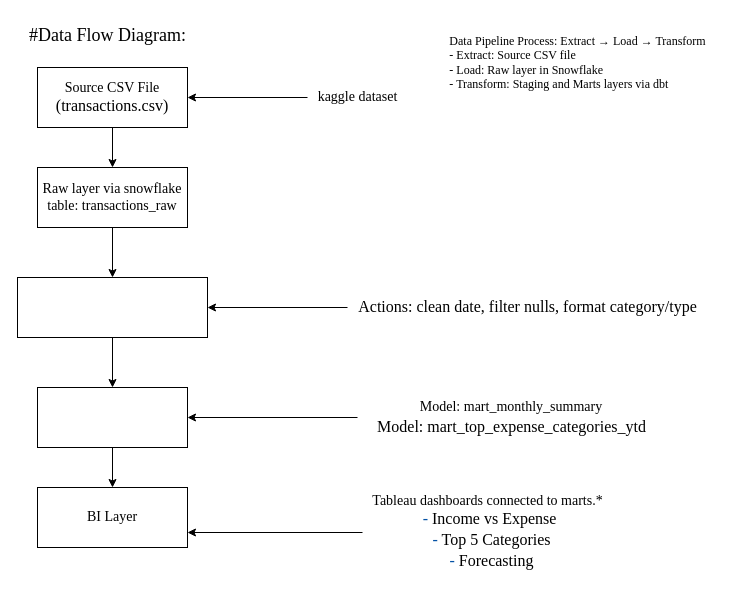
This 735x594 diagram has some shape labels left out. Here are the shapes that lost their labels. From the top down, the centre of each, then its label:
At point 112,307: "Staging layer via dbt Model: stg_transactions".
At point 112,417: "Marts Layer via dbt".
